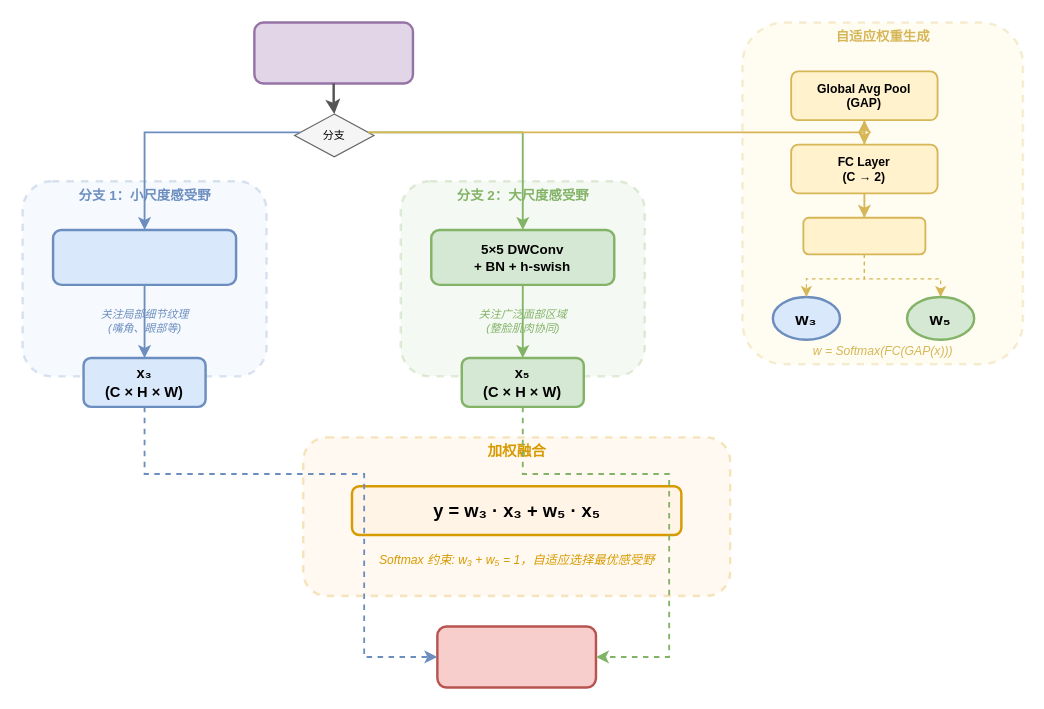
This 1044x709 diagram has some shape labels left out. The shapes that lost their labels are listed below. From the top down, each one's centre as x and y in pixels, then its label:
At (333,52): "输入特征 x (C × H × W)".
At (864,235): "Softmax".
At (144,256): "3×3 DWConv + BN + h-swish".
At (516,656): "输出 y (C × H × W)".
